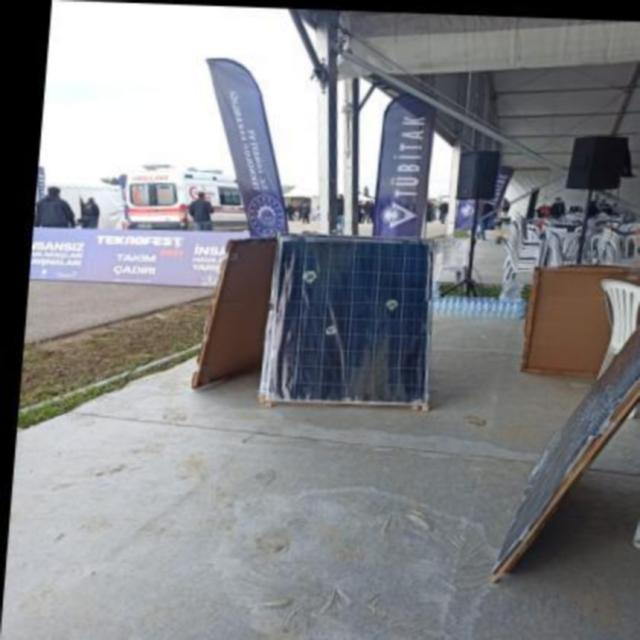soiled: (258, 236, 438, 408)
